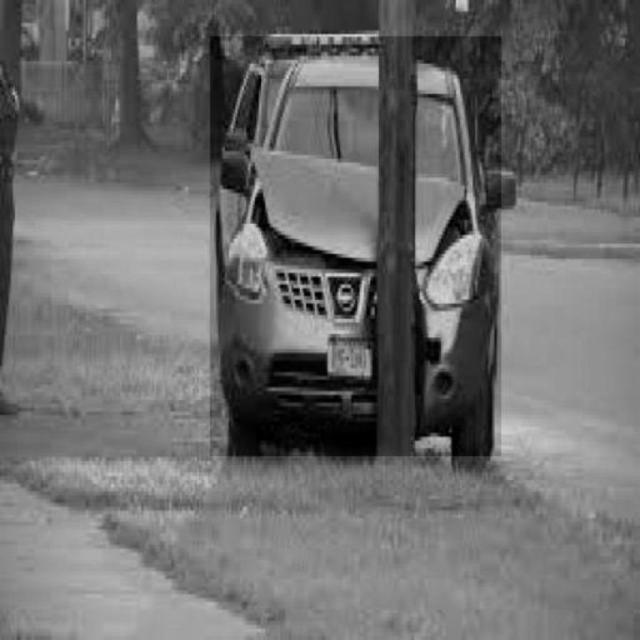accident: (210, 37, 501, 457)
